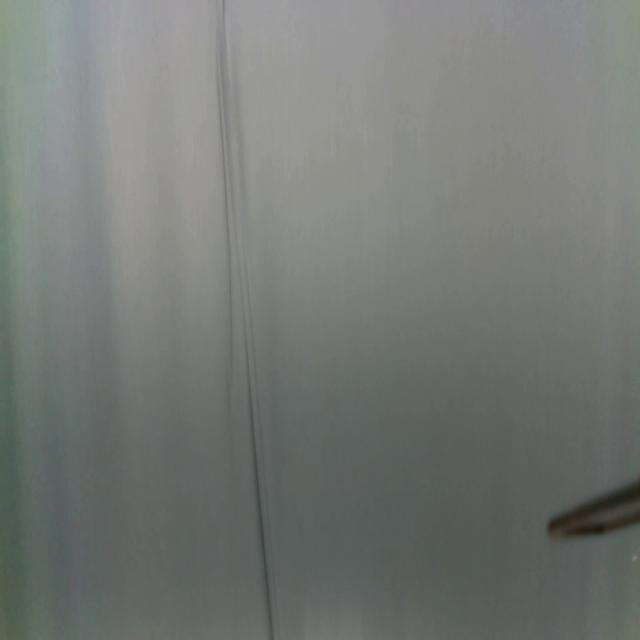crease: (215, 0, 276, 639)
